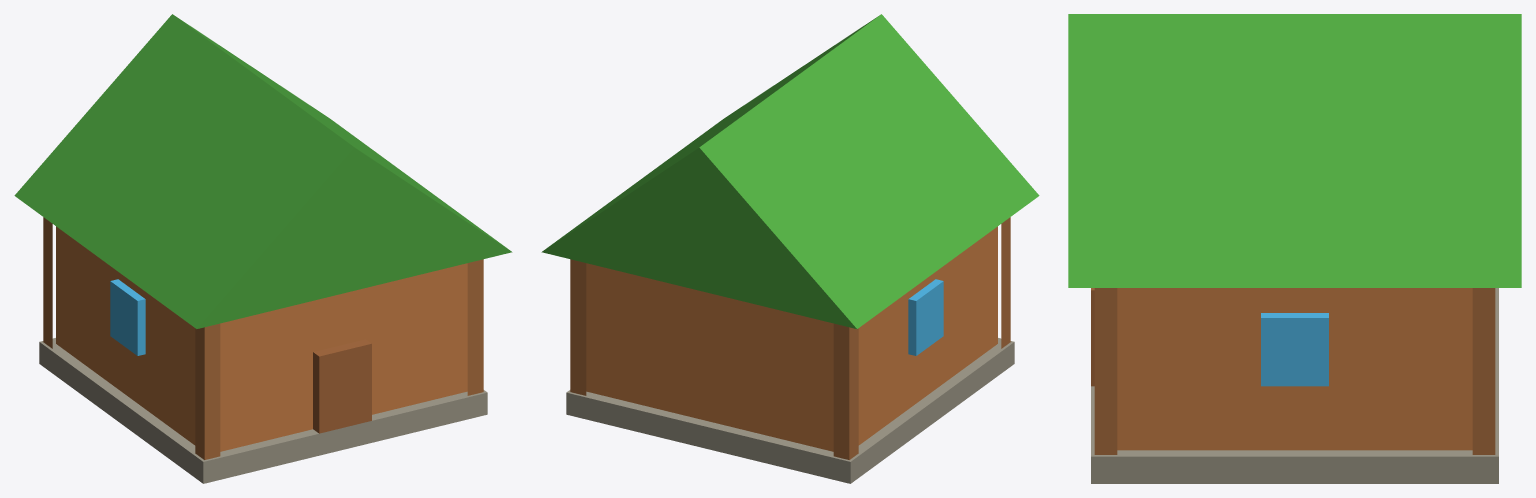
File: house_t1_v2.glb
3 views of the same model, side by side, from view 1: azimuth 30°, elevation 25°; view 2: azimuth 150°, elevation 25°; view 3: azimuth 270°, elevation 25° (orthographic). The views are drawn at different scales.
Visible parts, largest first — view 1: house_t1_v2; view 2: house_t1_v2; view 3: house_t1_v2.
Part boxes in pixels (bbox=[...]): house_t1_v2: bbox=[14, 14, 512, 483]; house_t1_v2: bbox=[541, 14, 1039, 483]; house_t1_v2: bbox=[1068, 14, 1521, 483].
Size of the model in its own units: 0.6 by 0.56 by 0.6.
1 material, 1 textured.
